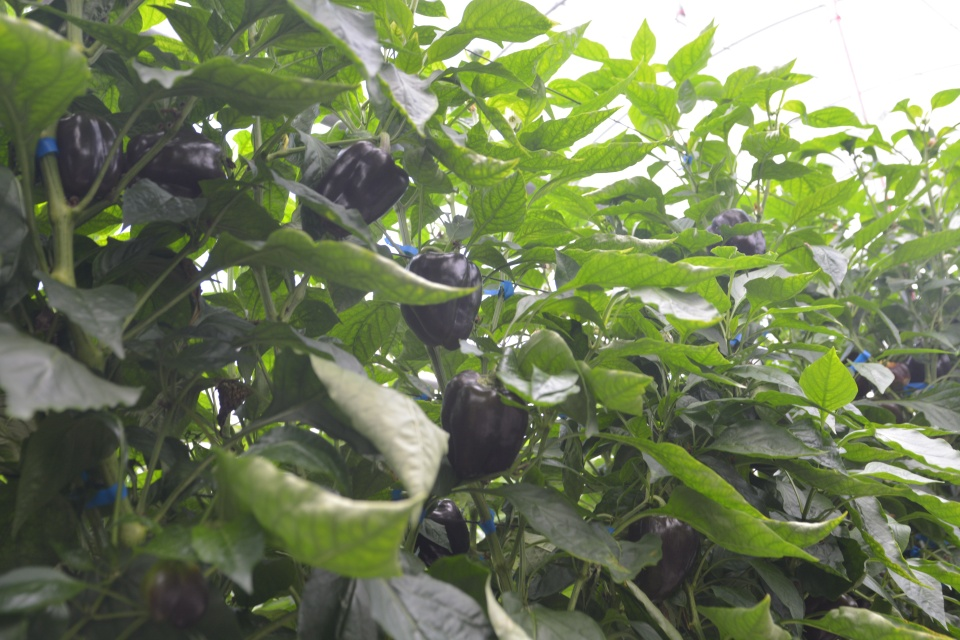flower: (658, 330, 674, 344)
fruit: (299, 139, 411, 242), (440, 372, 530, 480), (398, 250, 484, 353), (625, 505, 701, 601), (120, 128, 224, 198), (55, 110, 122, 203), (703, 209, 767, 275), (801, 590, 860, 640), (406, 496, 471, 539), (902, 344, 951, 382), (878, 357, 912, 392)
